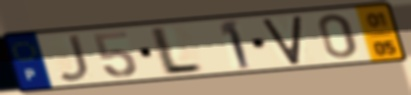0: (316, 12, 362, 62)
1: (218, 19, 254, 71)
5: (90, 29, 139, 79)
J: (56, 33, 93, 84)
L: (150, 25, 205, 78)
V: (259, 13, 303, 66)
